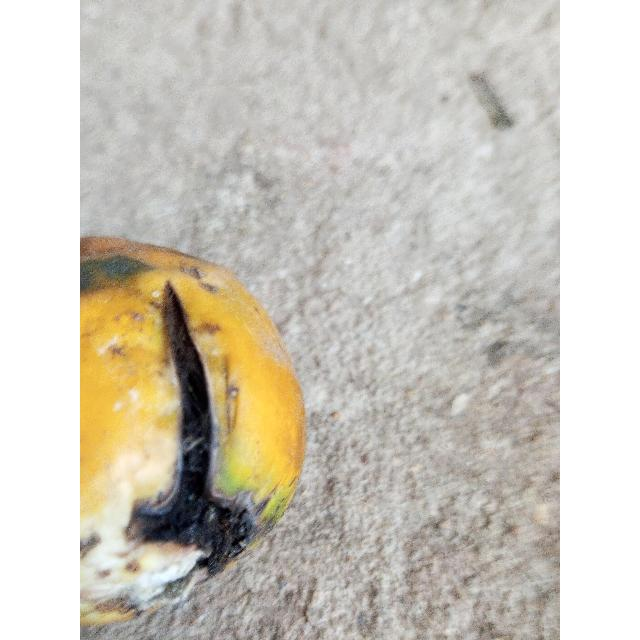damaged: (80, 236, 307, 631)
